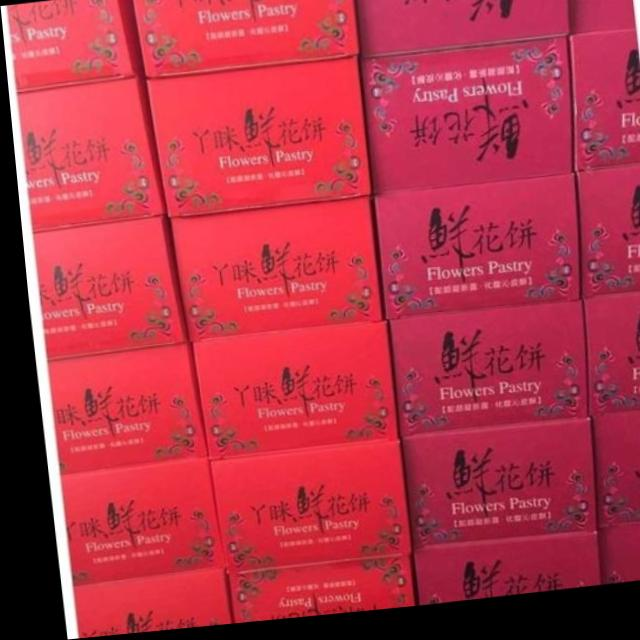box: (144, 64, 368, 219), (357, 49, 569, 202), (165, 204, 376, 344), (369, 184, 573, 325), (187, 327, 387, 460), (199, 446, 400, 576), (381, 311, 579, 442), (392, 428, 586, 556), (15, 77, 160, 232), (28, 219, 179, 360), (52, 458, 212, 586), (40, 347, 198, 472), (133, 0, 358, 81), (353, 0, 565, 64), (400, 540, 590, 611), (5, 0, 147, 92), (218, 561, 403, 627), (62, 573, 218, 639), (569, 41, 640, 183), (572, 177, 640, 309), (578, 303, 640, 427), (580, 422, 640, 537), (568, 0, 634, 47), (588, 534, 640, 592)
